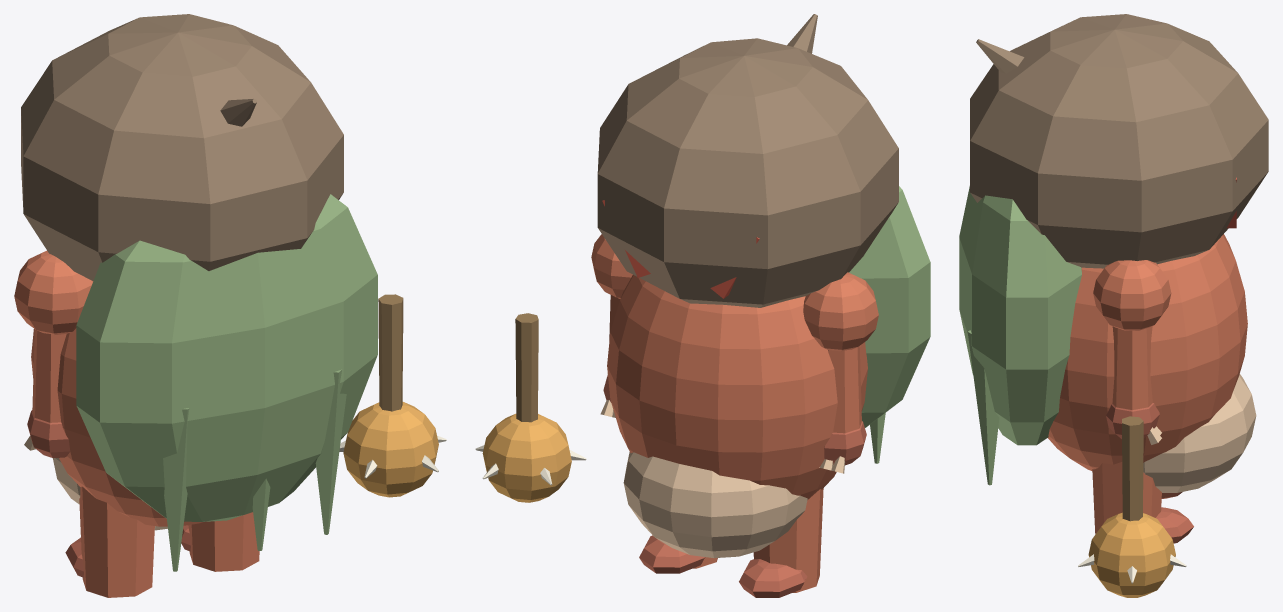
File: boglin.glb
3 views of the same model, side by side, from view 1: azimuth 30°, elevation 25°; view 2: azimuth 150°, elevation 25°; view 3: azimuth 270°, elevation 25° (orthographic). The views are drawn at different scales.
Visible parts, largest first — view 1: mosscloak, hood, club, armL, legL, body, legR, mosstuft0, mosstuft2, mosstuft1, hoodpeak; view 2: hood, body, mosscloak, club, armL, legL, armR, legR, hoodpeak; view 3: hood, body, mosscloak, armR, club, legR, mosstuft2, hoodpeak.
Boxes of the visible parts, bbox=[...] form: mosscloak: bbox=[76, 194, 377, 521]; hood: bbox=[21, 14, 343, 280]; club: bbox=[339, 294, 446, 497]; armL: bbox=[14, 250, 93, 458]; legL: bbox=[65, 486, 154, 597]; body: bbox=[31, 328, 202, 530]; legR: bbox=[181, 512, 259, 571]; mosstuft0: bbox=[163, 408, 189, 571]; mosstuft2: bbox=[315, 369, 346, 534]; mosstuft1: bbox=[252, 478, 270, 550]; hoodpeak: bbox=[220, 99, 256, 126]; hood: bbox=[597, 38, 898, 307]; body: bbox=[607, 275, 867, 558]; mosscloak: bbox=[849, 186, 930, 427]; club: bbox=[475, 313, 586, 502]; armL: bbox=[803, 272, 878, 473]; legL: bbox=[739, 488, 823, 597]; armR: bbox=[591, 234, 632, 417]; legR: bbox=[639, 535, 717, 573]; hoodpeak: bbox=[787, 14, 817, 53]; hood: bbox=[970, 14, 1268, 268]; body: bbox=[1048, 234, 1256, 492]; mosscloak: bbox=[959, 186, 1081, 445]; armR: bbox=[1093, 260, 1171, 444]; club: bbox=[1078, 416, 1186, 597]; legR: bbox=[1092, 462, 1193, 543]; mosstuft2: bbox=[967, 330, 999, 485]; hoodpeak: bbox=[976, 39, 1024, 73].
Size of the model in its own units: 1.91 by 2.35 by 1.34.
